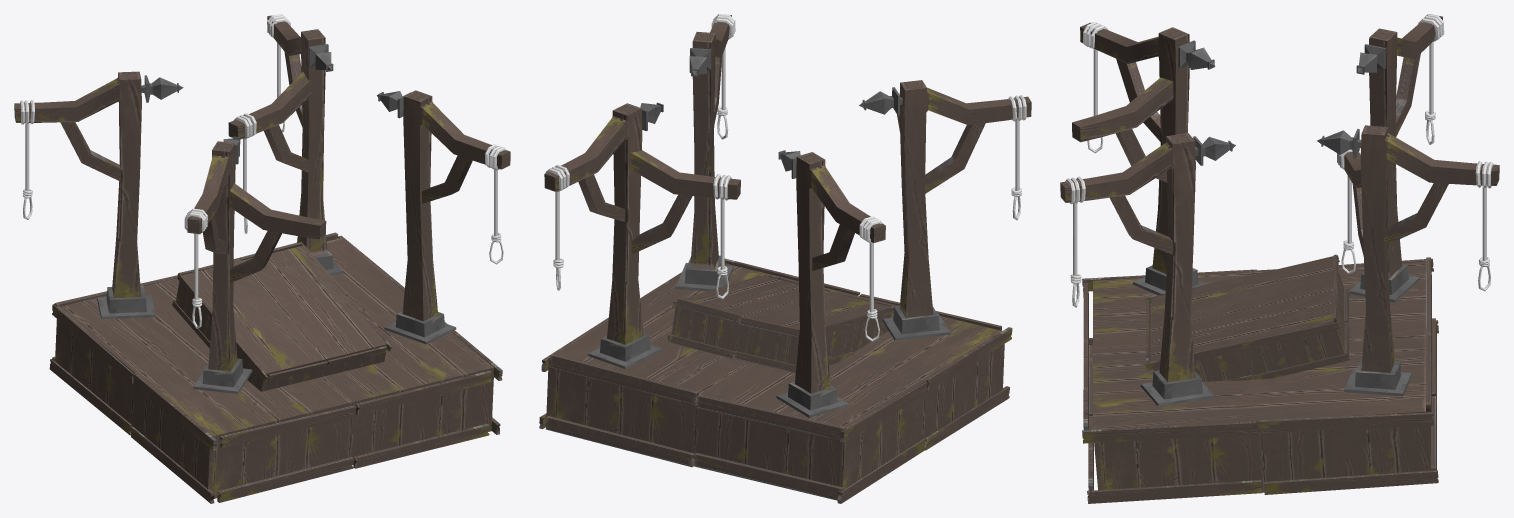
The model's file is SM_Potence.fbx.
3 renders of one model, left to right at view 1: azimuth 30°, elevation 25°; view 2: azimuth 150°, elevation 25°; view 3: azimuth 270°, elevation 25°, orthographic. The views are drawn at different scales.
Visible parts, largest first — view 1: Object376, Object392, Circle017, Circle020, Circle019, Circle018, Object390, Object387, Object388, Object391; view 2: Object376, Circle018, Object392, Circle020, Circle019, Circle017, Object387, Object391, Object390, Object389, Object388; view 3: Object376, Object392, Circle018, Circle017, Circle020, Circle019, Object388, Object389, Object390, Object387, Object391.
Boxes of the visible parts, x1,y1,x2,y2 form: Object376: (49, 232, 502, 503); Object392: (172, 242, 391, 391); Circle017: (377, 90, 510, 344); Circle020: (187, 136, 326, 393); Circle019: (14, 71, 183, 319); Circle018: (228, 15, 343, 275); Object390: (20, 100, 34, 219); Object387: (184, 208, 207, 328); Object388: (485, 144, 505, 264); Object391: (234, 113, 256, 233); Object376: (539, 258, 1012, 503); Circle018: (544, 102, 740, 369); Object392: (667, 274, 896, 373); Circle020: (859, 80, 1031, 340); Circle019: (776, 150, 885, 417); Circle017: (675, 14, 733, 291); Object387: (1008, 95, 1026, 220); Object391: (713, 174, 731, 299); Object390: (859, 216, 883, 341); Object389: (545, 164, 569, 290); Object388: (711, 14, 735, 139); Object376: (1082, 257, 1438, 503); Object392: (1145, 254, 1350, 381); Circle018: (1317, 125, 1499, 396); Circle017: (1060, 133, 1235, 406); Circle020: (1072, 22, 1215, 294); Circle019: (1349, 14, 1442, 302); Object388: (1065, 176, 1085, 307); Object389: (1475, 161, 1493, 291); Object390: (1418, 14, 1444, 144); Object387: (1083, 21, 1107, 153); Object391: (1337, 149, 1360, 274).
Bounding box in the file's own units: 548 × 506 × 584.
